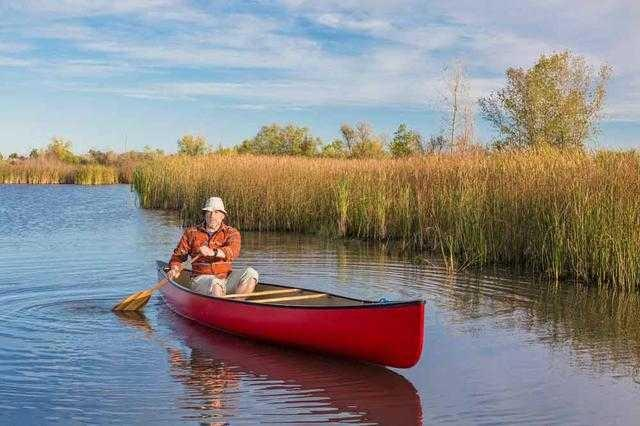kayak: (156, 266, 426, 371)
